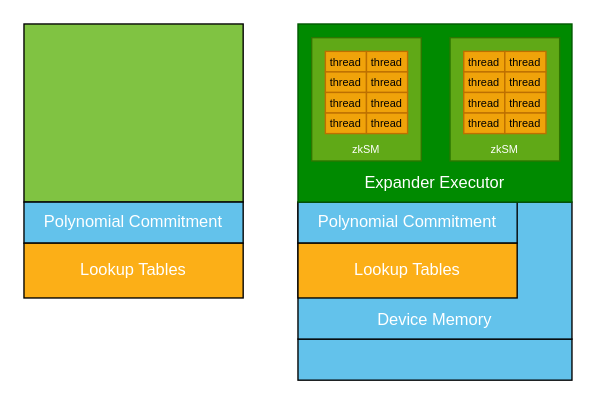
Some shapes in this 596 by 404 pixel diagram are drawn without their labels. The centre of each missing label's shape, as x and y in pixels:
Host Memory: pixel 434 359
R1CS: pixel 133 112
